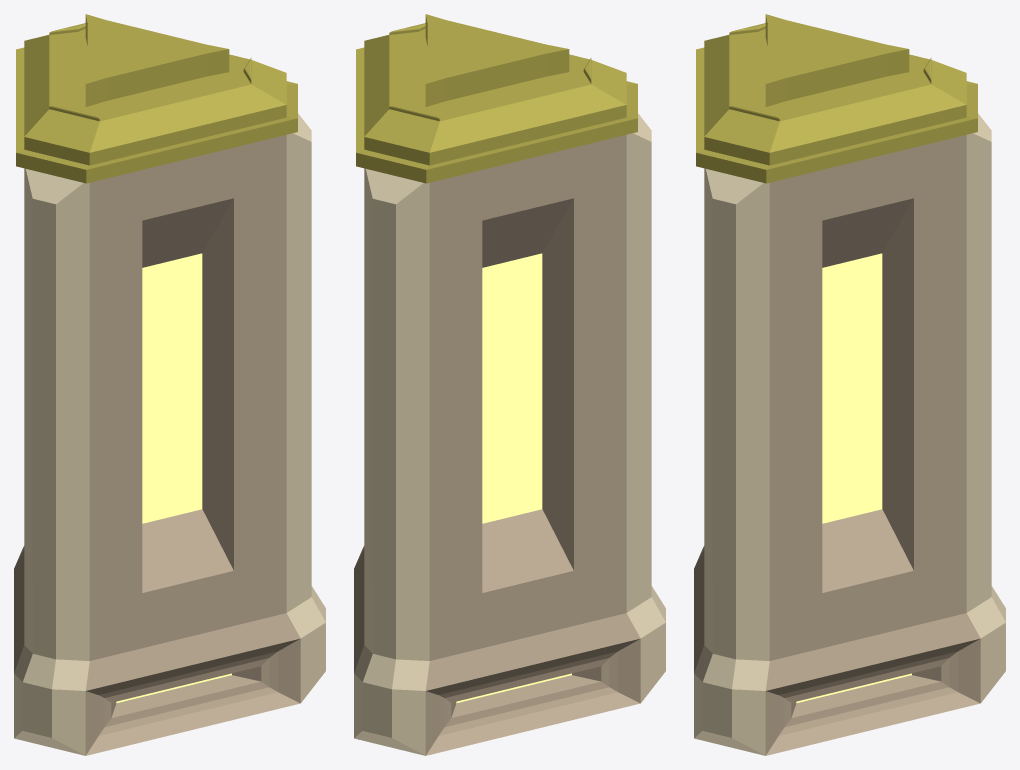
Rendered from Solar_Battery.fbx.
The picture shows the model from 3 angles, left to right: view 1: azimuth 30°, elevation 25°; view 2: azimuth 150°, elevation 25°; view 3: azimuth 270°, elevation 25°; orthographic projection.
Parts seen in each view (by area): view 1: Solar_Battery; view 2: Solar_Battery; view 3: Solar_Battery.
Part boxes in pixels (bbox=[...]): Solar_Battery: bbox=[14, 14, 325, 755]; Solar_Battery: bbox=[354, 14, 665, 755]; Solar_Battery: bbox=[694, 14, 1005, 755].
Bounding box in the file's own units: 160 × 321 × 143.
